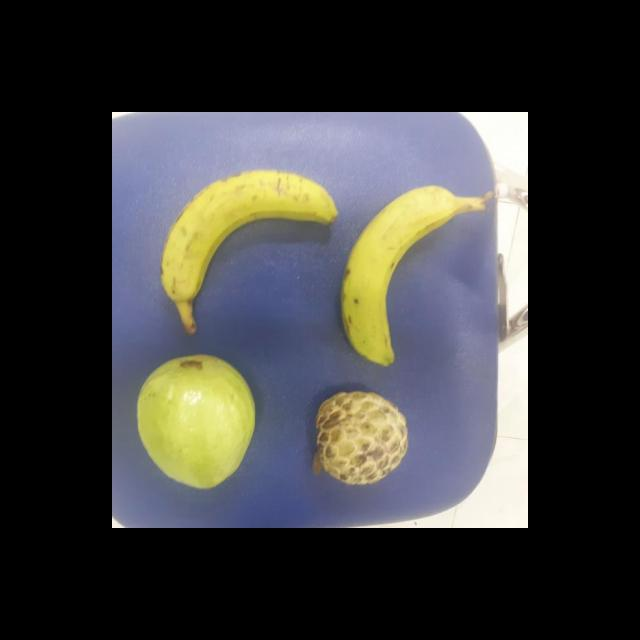Sakya fruit: (310, 390, 409, 486)
banana: (160, 166, 338, 298), (341, 181, 465, 365)
guava: (133, 352, 259, 491)
